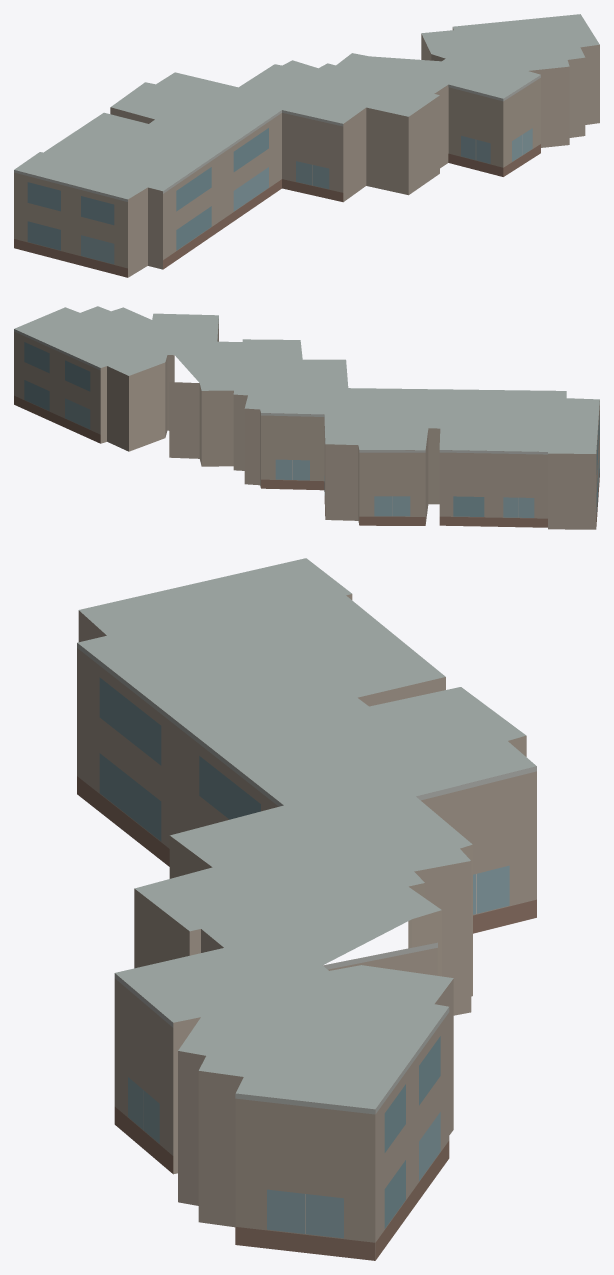
The model's file is survey-upis-32991548.glb.
3 renders of one model, top to bottom at view 1: azimuth 30°, elevation 25°; view 2: azimuth 150°, elevation 25°; view 3: azimuth 270°, elevation 25°, orthographic. The views are drawn at different scales.
Parts seen in each view (by area): view 1: survey-upis-32991548.tmp; view 2: survey-upis-32991548.tmp; view 3: survey-upis-32991548.tmp.
Part boxes in pixels (bbox=[...]): survey-upis-32991548.tmp: bbox=[14, 14, 599, 277]; survey-upis-32991548.tmp: bbox=[14, 306, 599, 529]; survey-upis-32991548.tmp: bbox=[77, 558, 536, 1260].
Bounding box in the file's own units: 55.57 × 7.12 × 19.59.
